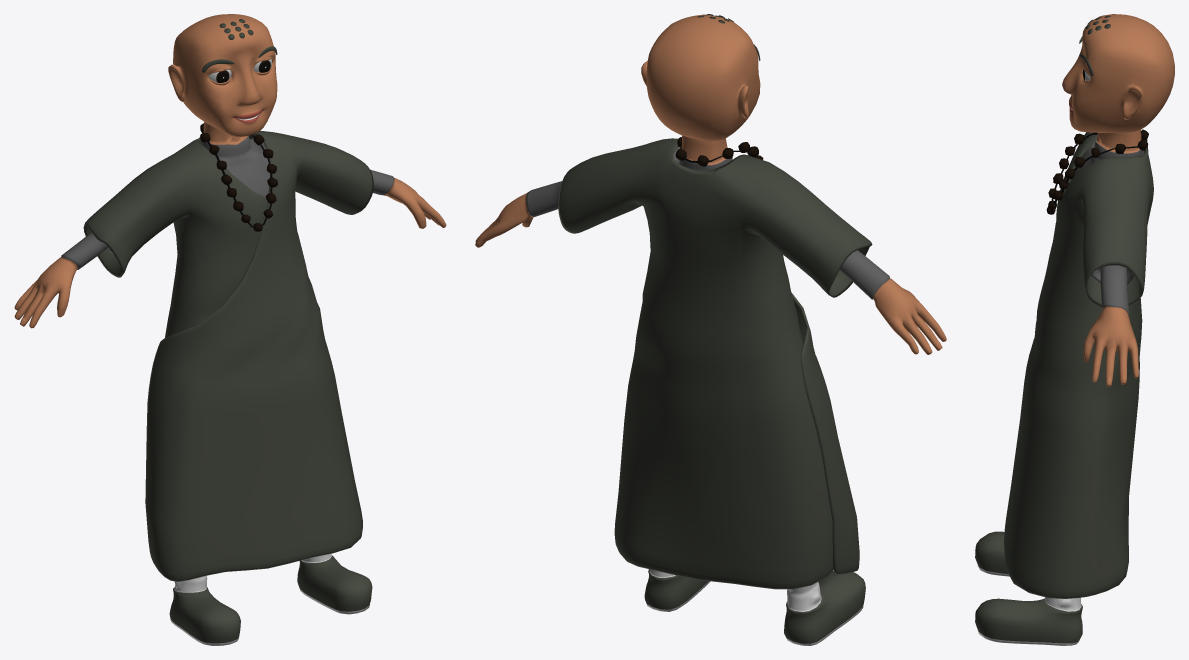
File: JohnMonkglbforTextures.glb
The picture shows the model from 3 angles, left to right: view 1: azimuth 30°, elevation 25°; view 2: azimuth 150°, elevation 25°; view 3: azimuth 270°, elevation 25°; orthographic projection. The views are drawn at different scales.
Visible parts, largest first — view 1: node_id35, mesh_id55, mesh_id33, mesh_id31, mesh_id32, mesh_id61, mesh_id30; view 2: node_id35, mesh_id55, mesh_id33, mesh_id31, mesh_id32, mesh_id30; view 3: node_id35, mesh_id55, mesh_id33, mesh_id31, mesh_id32, mesh_id61, mesh_id30.
Boxes of the visible parts, x1,y1,x2,y2 form: node_id35: (83, 131, 373, 581); mesh_id55: (168, 14, 277, 136); mesh_id33: (169, 555, 372, 643); mesh_id31: (14, 122, 446, 328); mesh_id32: (61, 135, 394, 269); mesh_id61: (200, 123, 277, 231); mesh_id30: (170, 554, 369, 645); node_id35: (558, 138, 872, 589); mesh_id55: (641, 15, 760, 141); mesh_id33: (644, 569, 865, 643); mesh_id31: (475, 135, 946, 354); mesh_id32: (526, 147, 889, 299); mesh_id30: (646, 569, 863, 645); node_id35: (1004, 132, 1153, 598); mesh_id55: (1062, 14, 1174, 133); mesh_id33: (975, 531, 1082, 643); mesh_id31: (1083, 130, 1141, 386); mesh_id32: (1073, 139, 1144, 316); mesh_id61: (1046, 129, 1148, 214); mesh_id30: (977, 564, 1081, 645).
Bounding box in the file's own units: 0.3484 × 0.4492 × 0.1384.
Materials: 19 (19 with a texture image).
